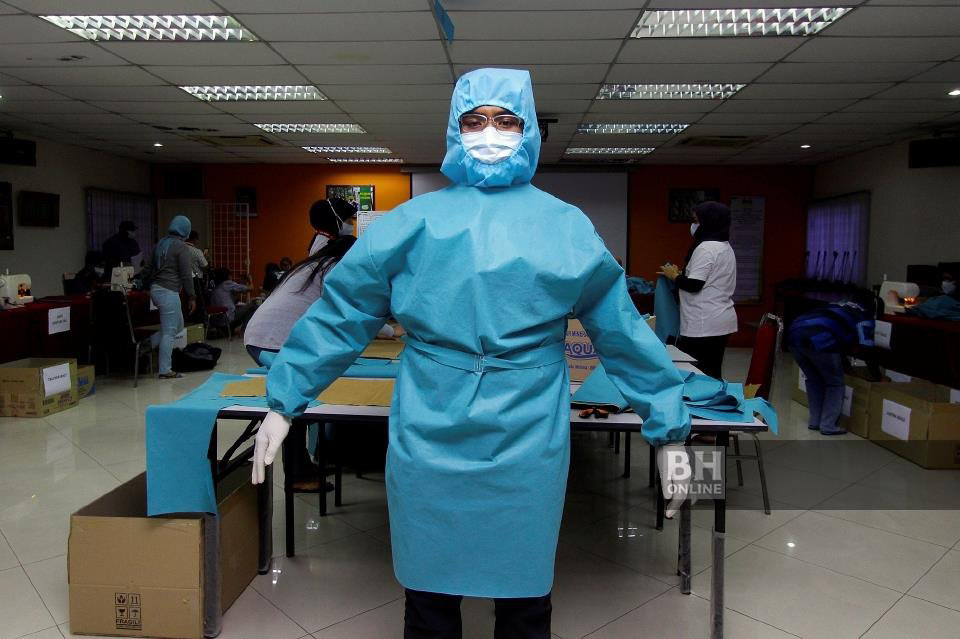Coverall: (283, 65, 680, 598)
Gloves: (247, 412, 292, 491)
with_mask: (454, 108, 529, 174)
